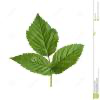Raspberry leaf: (25, 13, 59, 57), (50, 43, 85, 75), (8, 53, 51, 75)
